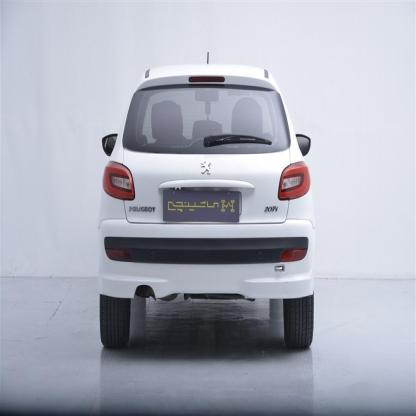Car: (95, 54, 319, 355)
